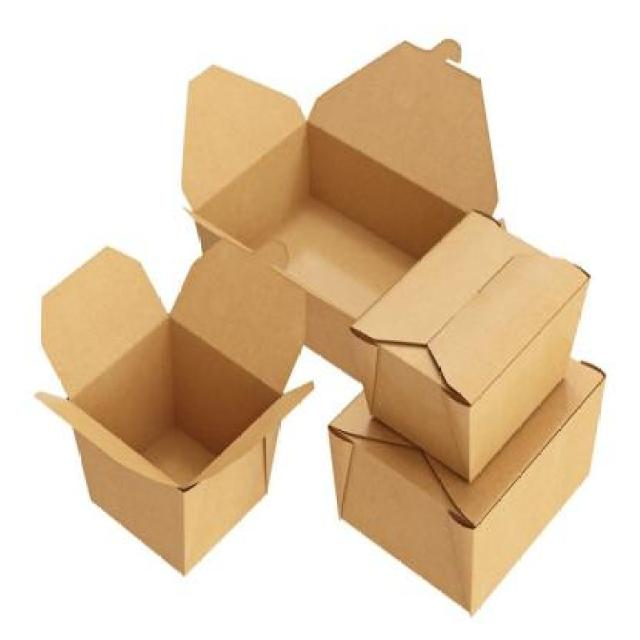box: (169, 36, 543, 364), (22, 262, 323, 571), (328, 363, 629, 620), (357, 225, 591, 473)
